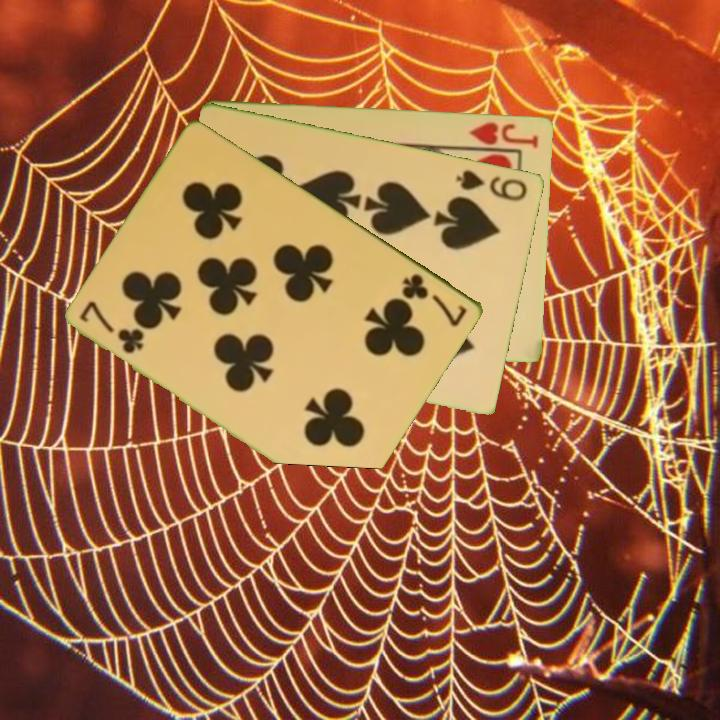7c: (398, 269, 471, 330), (76, 299, 148, 357)
9s: (453, 166, 531, 204)
Jh: (466, 118, 542, 151)
